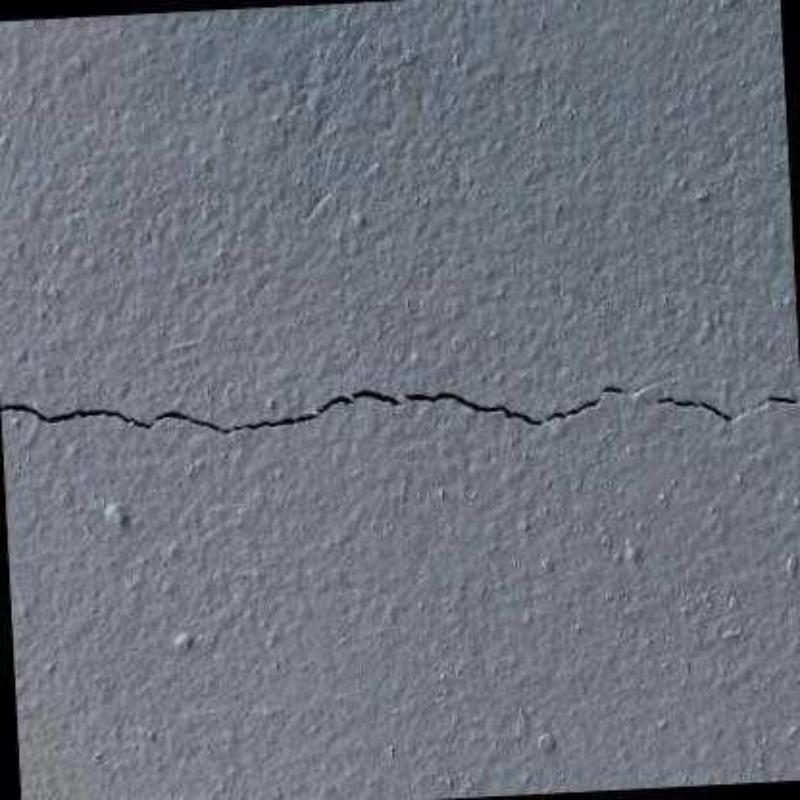crack: (1, 385, 799, 433)
